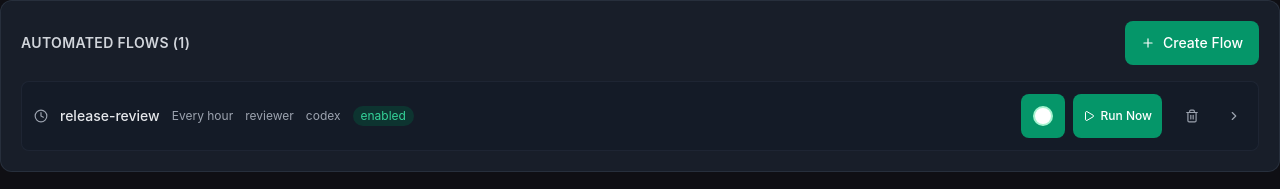
operational request ownership › prevents an older Flows poll from overwriting a completed mutation
Expected: the text "enabled" is shown, x1=352 y1=106 x2=414 y2=126
Step 1. Click the button titled "Disable flow" → (1042, 116), box x1=1020 y1=94 x2=1064 y2=138
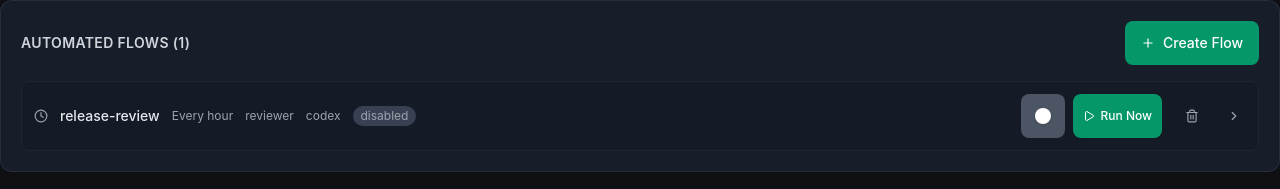
Now the text "disabled" is shown, box x1=352 y1=106 x2=416 y2=126
Now the button "enabled" is gone
